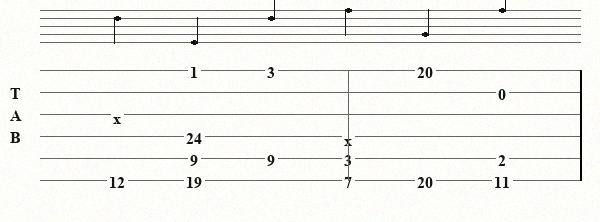0: (498, 85, 510, 100)
1: (190, 63, 202, 78)
11: (494, 173, 514, 188)
12: (109, 173, 129, 188)
19: (186, 173, 206, 188)
2: (498, 151, 510, 166)
20: (417, 63, 437, 78), (417, 173, 437, 188)
24: (186, 129, 206, 144)
3: (267, 63, 279, 78), (344, 151, 356, 166)
7: (344, 173, 356, 188)
9: (190, 151, 202, 166), (267, 151, 279, 166)
x: (113, 109, 125, 120), (344, 131, 356, 142)
